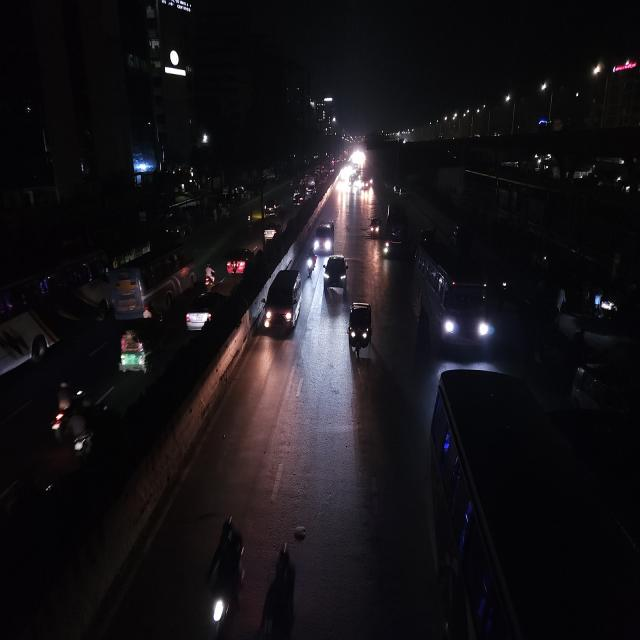bus: (428, 368, 640, 640), (412, 220, 496, 357), (0, 258, 115, 339), (106, 243, 197, 318), (382, 201, 410, 261)
car: (262, 265, 304, 342), (184, 287, 226, 334), (322, 252, 351, 300), (225, 244, 253, 278), (312, 218, 336, 256), (262, 218, 280, 243), (265, 200, 279, 217), (292, 190, 304, 207)
cng: (116, 319, 159, 379), (346, 299, 376, 362), (368, 214, 383, 240)
motorcycle: (200, 512, 248, 640), (202, 263, 218, 290), (306, 251, 316, 281)
